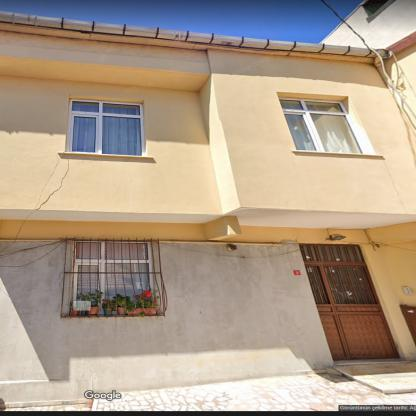door: (306, 266, 397, 359)
window: (280, 99, 361, 152), (75, 242, 154, 296), (70, 100, 140, 155), (300, 244, 362, 262)
